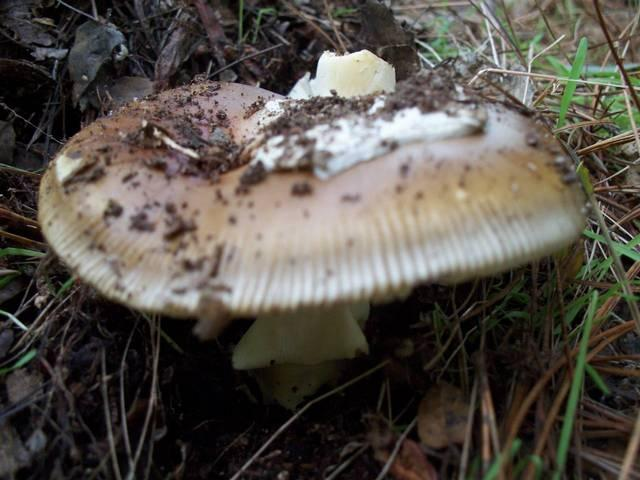edible_mushroom: (36, 50, 593, 410)
